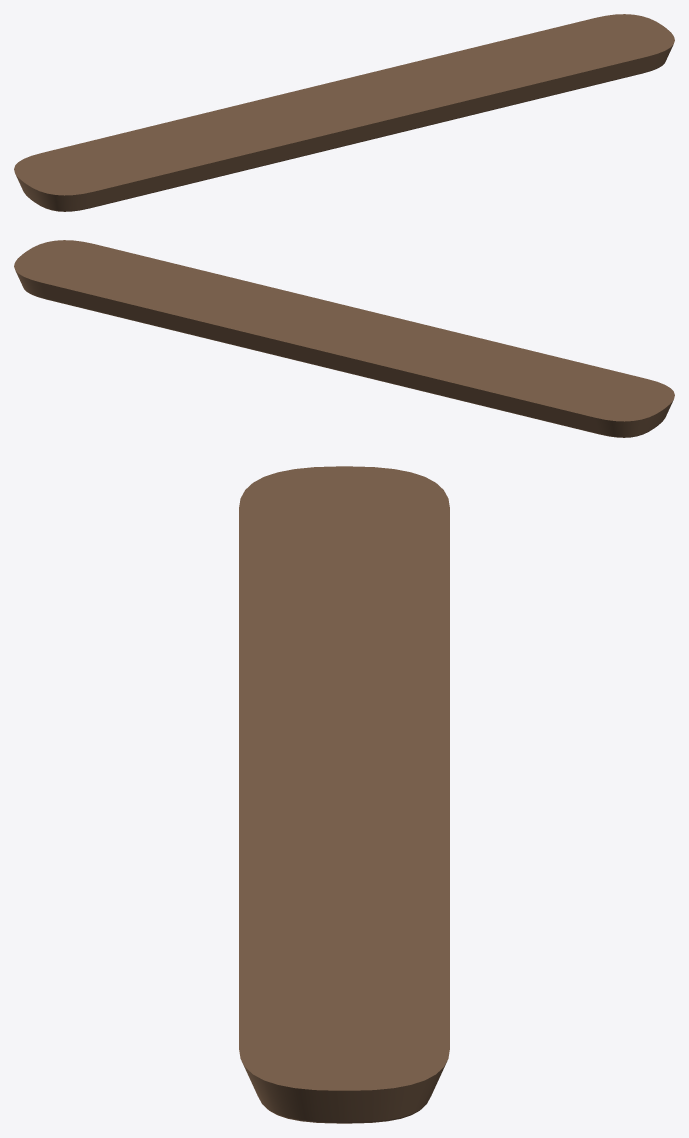
Rendered from SM_Lamp.fbx.
The picture shows the model from 3 angles, top to bottom: view 1: azimuth 30°, elevation 25°; view 2: azimuth 150°, elevation 25°; view 3: azimuth 270°, elevation 25°; orthographic projection. The views are drawn at different scales.
Visible parts, largest first — view 1: SM_Lamp; view 2: SM_Lamp; view 3: SM_Lamp.
Part boxes in pixels (left/top/right/bottom): SM_Lamp: left=14, top=14, right=674, bottom=211; SM_Lamp: left=14, top=240, right=674, bottom=437; SM_Lamp: left=239, top=466, right=449, bottom=1123.
Size of the model in its own units: 1.4 by 0.2 by 0.044.
